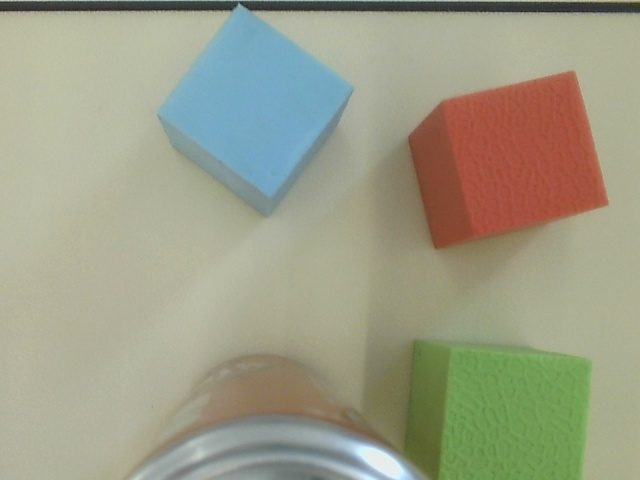bluecube: (140, 1, 367, 221)
cola: (127, 347, 423, 480)
greencube: (403, 334, 597, 480)
redcube: (410, 70, 615, 266)
